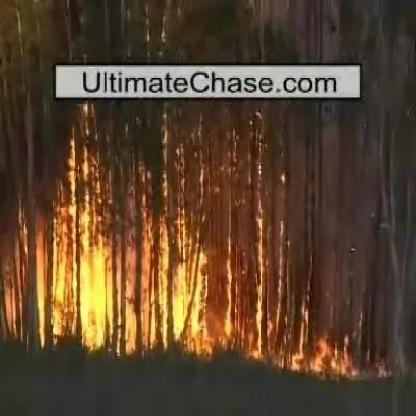foggia-v2-map80-epoch100 - v1 4323: (82, 246, 112, 344), (174, 270, 205, 338)
